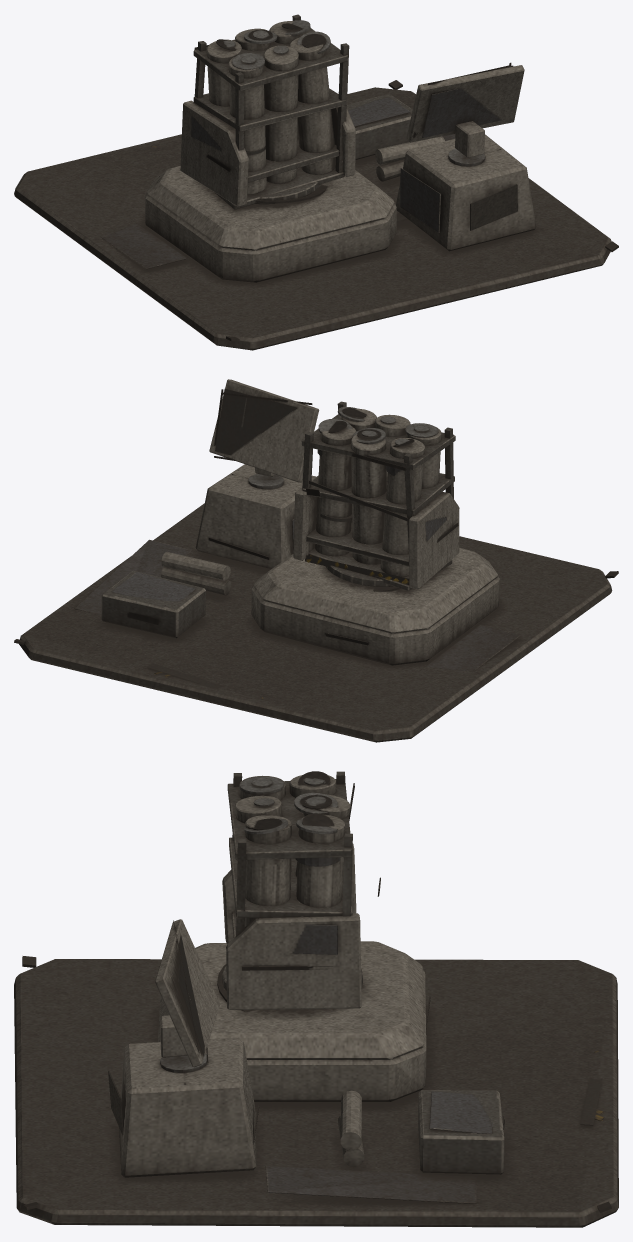
The model's file is ord_aegis_wreck.fbx.
The picture shows the model from 3 angles, top to bottom: view 1: azimuth 30°, elevation 25°; view 2: azimuth 150°, elevation 25°; view 3: azimuth 270°, elevation 25°; orthographic projection. The views are drawn at different scales.
Parts seen in each view (by area): view 1: base_bar, launcher_bar, radar_bar; view 2: base_bar, launcher_bar, radar_bar; view 3: base_bar, launcher_bar, radar_bar.
Boxes of the visible parts, x1,y1,x2,y2 form: base_bar: (14, 80, 618, 350); launcher_bar: (180, 14, 355, 209); radar_bar: (406, 62, 524, 157); base_bar: (14, 464, 618, 742); launcher_bar: (293, 401, 459, 590); radar_bar: (209, 379, 319, 482); base_bar: (14, 941, 618, 1227); launcher_bar: (222, 771, 380, 1009); radar_bar: (155, 919, 220, 1067).
Size of the model in its own units: 2329 by 1321 by 2320.
2 materials, 2 textured.
